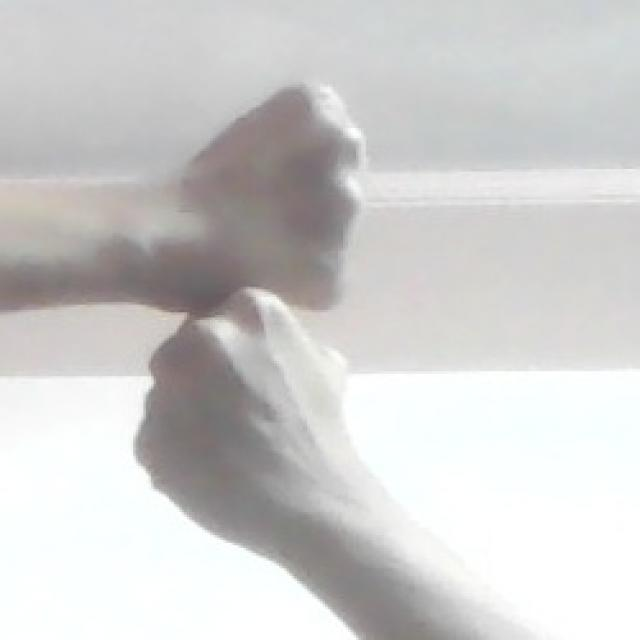Alphabet-g: (117, 69, 420, 603)
